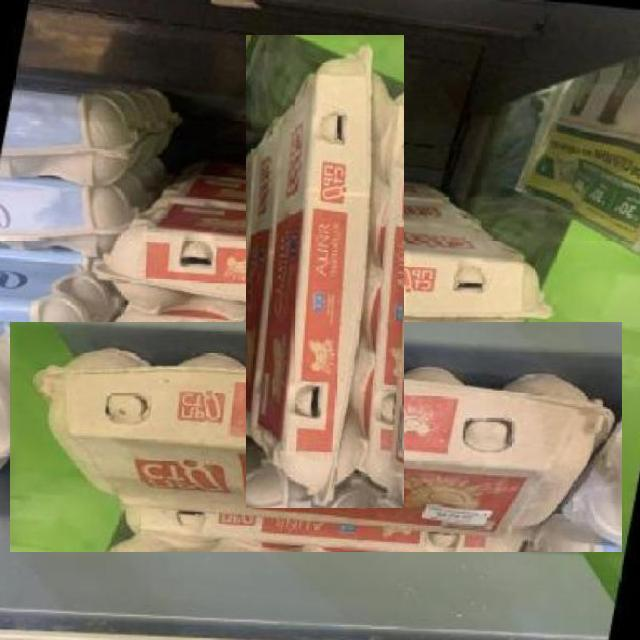Egg: (10, 321, 622, 552), (247, 34, 404, 508)
